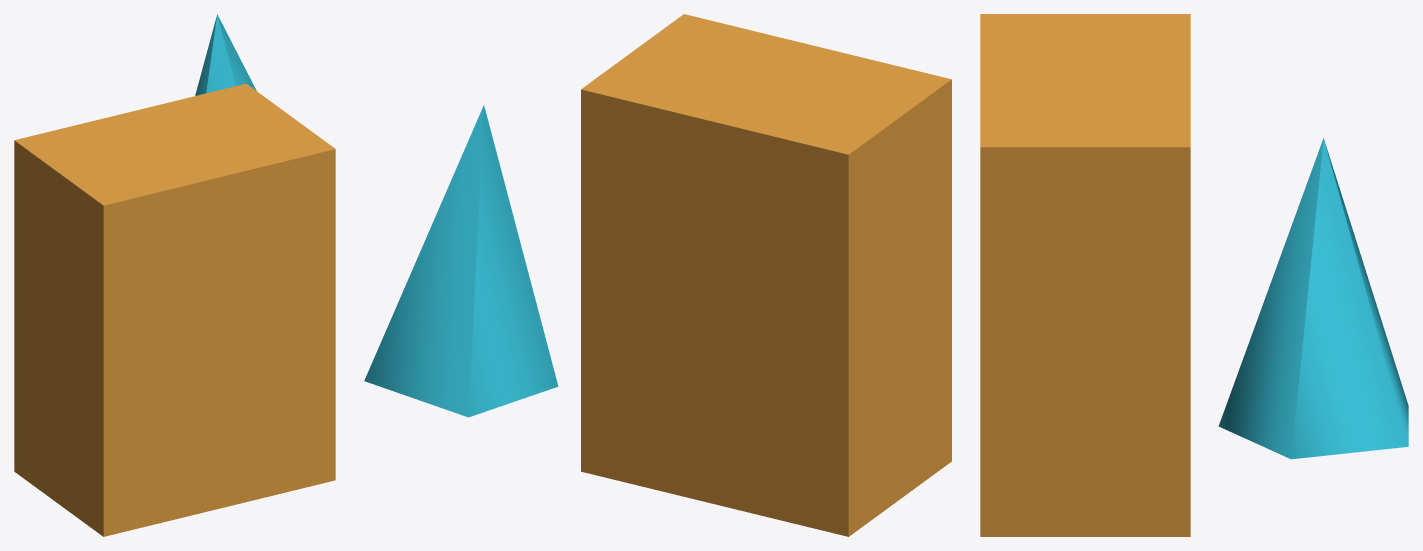
File: frame-05.glb
3 renders of one model, left to right at view 1: azimuth 30°, elevation 25°; view 2: azimuth 150°, elevation 25°; view 3: azimuth 270°, elevation 25°, orthographic. The views are drawn at different scales.
Bounding box in the file's own units: 0.5051 × 0.4792 × 0.4483.
